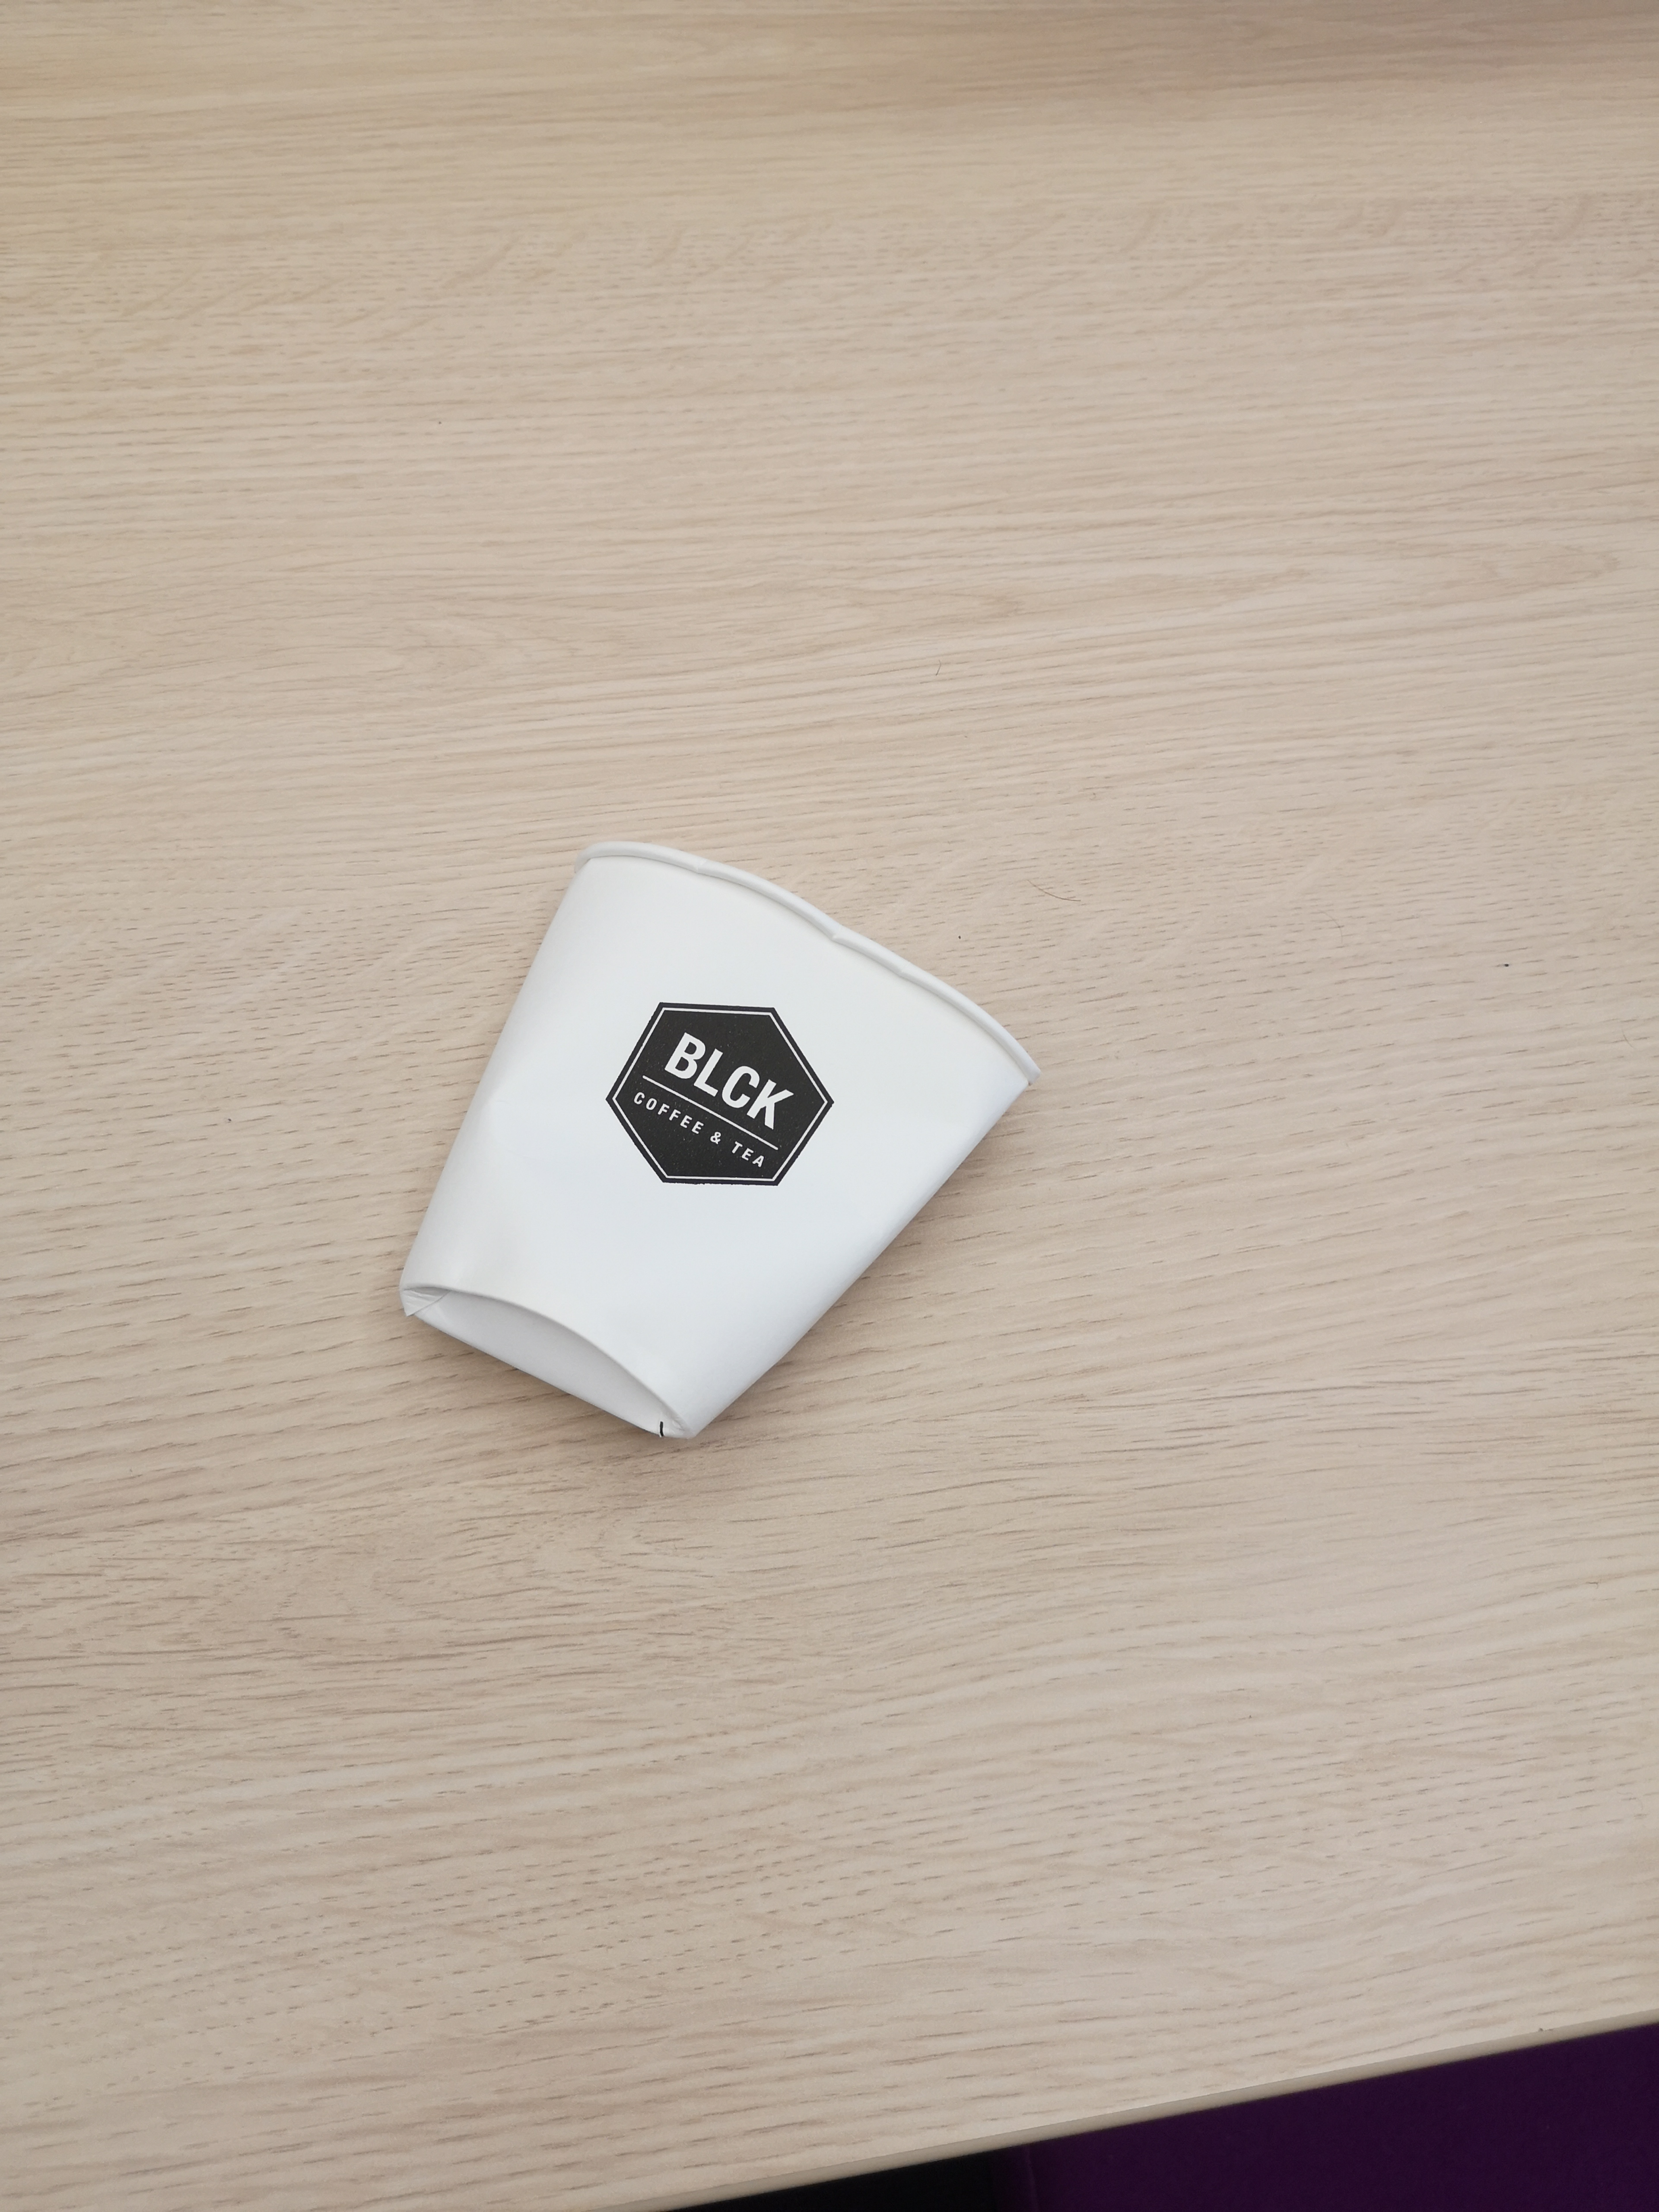cup: (375, 798, 1054, 1480)
